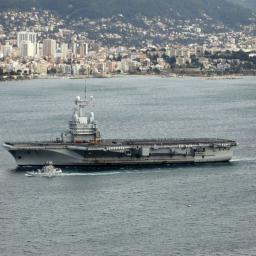Portanaves: (3, 82, 240, 171)
